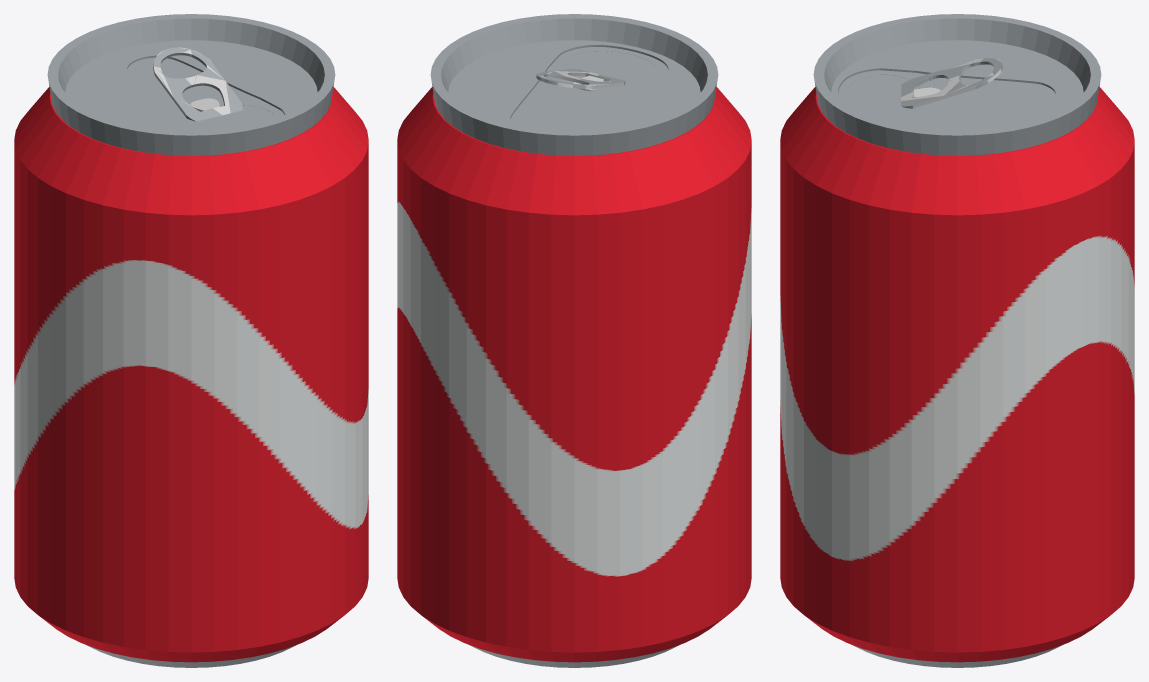
Rendered from soda.glb.
The picture shows the model from 3 angles, left to right: view 1: azimuth 30°, elevation 25°; view 2: azimuth 150°, elevation 25°; view 3: azimuth 270°, elevation 25°; orthographic projection.
Parts seen in each view (by area): view 1: Mesh_Mesh_head_geo001_lambert2SG001; view 2: Mesh_Mesh_head_geo001_lambert2SG001; view 3: Mesh_Mesh_head_geo001_lambert2SG001.
Boxes of the visible parts, x1,y1,x2,y2 form: Mesh_Mesh_head_geo001_lambert2SG001: (14, 14, 368, 667); Mesh_Mesh_head_geo001_lambert2SG001: (397, 14, 751, 667); Mesh_Mesh_head_geo001_lambert2SG001: (780, 14, 1134, 667).
Size of the model in its own units: 50.5 by 86.25 by 50.5.
Materials: 2 (1 with a texture image).
